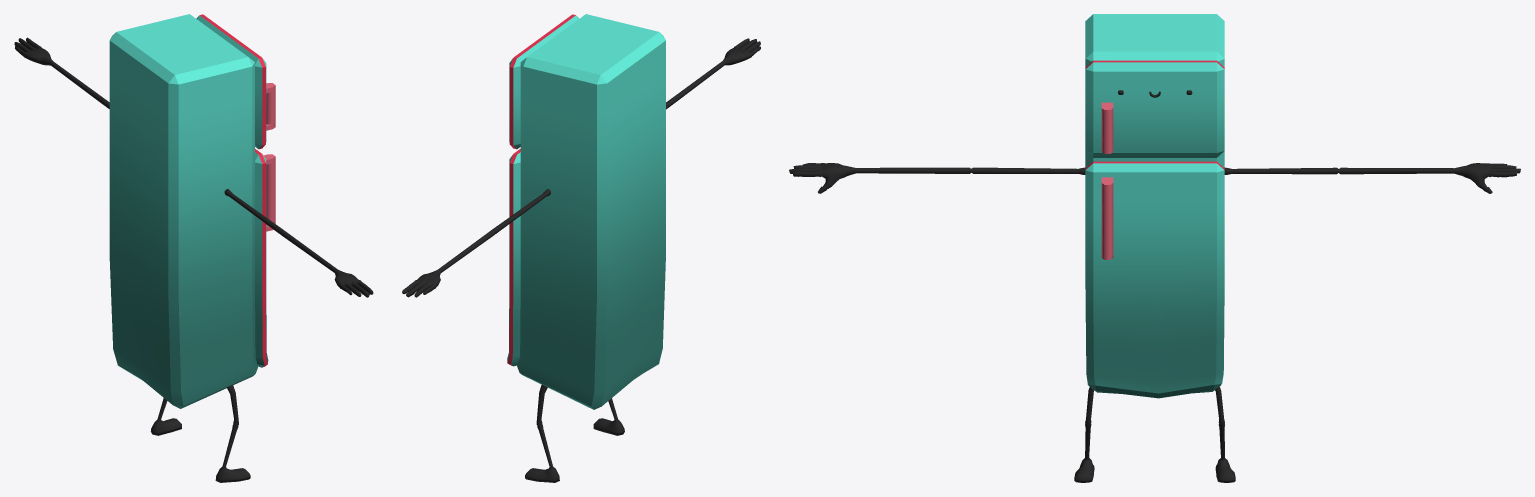
Rendered from Fridge Character.glb.
The picture shows the model from 3 angles, left to right: view 1: azimuth 30°, elevation 25°; view 2: azimuth 150°, elevation 25°; view 3: azimuth 270°, elevation 25°; orthographic projection. The views are drawn at different scales.
Visible parts, largest first — view 1: _100Avatars_196_Cool_Fridge; view 2: _100Avatars_196_Cool_Fridge; view 3: _100Avatars_196_Cool_Fridge.
Boxes of the visible parts, x1,y1,x2,y2 form: _100Avatars_196_Cool_Fridge: (14,14,373,482); _100Avatars_196_Cool_Fridge: (402,14,760,482); _100Avatars_196_Cool_Fridge: (789,14,1520,482).
Bounding box in the file's own units: 1.25 × 4.37 × 6.68.
Materials: 1 (1 with a texture image).
